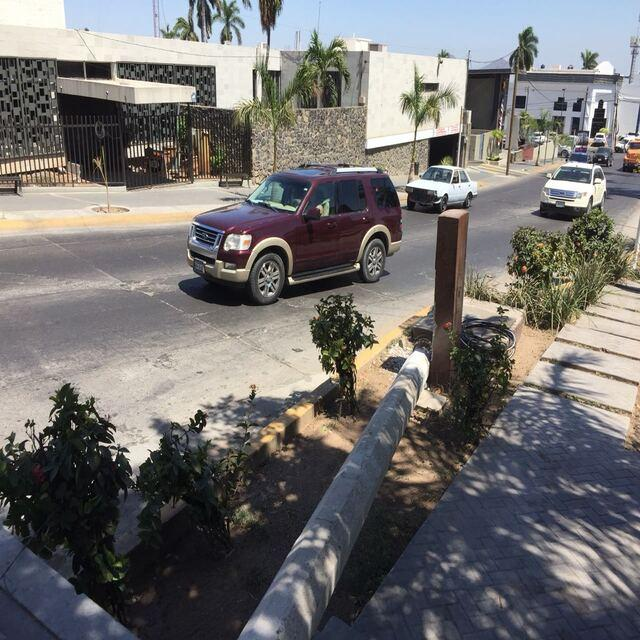Inclined Pole: (0, 344, 436, 640)
